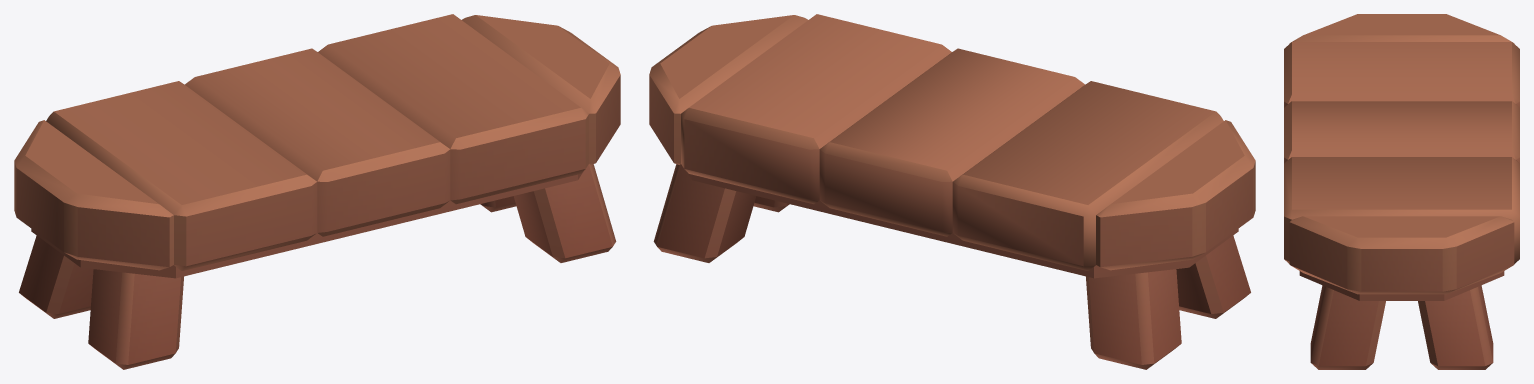
File: bench.glb
3 renders of one model, left to right at view 1: azimuth 30°, elevation 25°; view 2: azimuth 150°, elevation 25°; view 3: azimuth 270°, elevation 25°, orthographic. The views are drawn at different scales.
Parts seen in each view (by area): view 1: bench; view 2: bench; view 3: bench.
Part boxes in pixels (left/top/right/bottom): bench: left=14, top=14, right=620, bottom=369; bench: left=649, top=14, right=1255, bottom=369; bench: left=1284, top=14, right=1519, bottom=369.
Size of the model in its own units: 1.75 by 0.5 by 0.75.
Materials: 1 (1 with a texture image).
